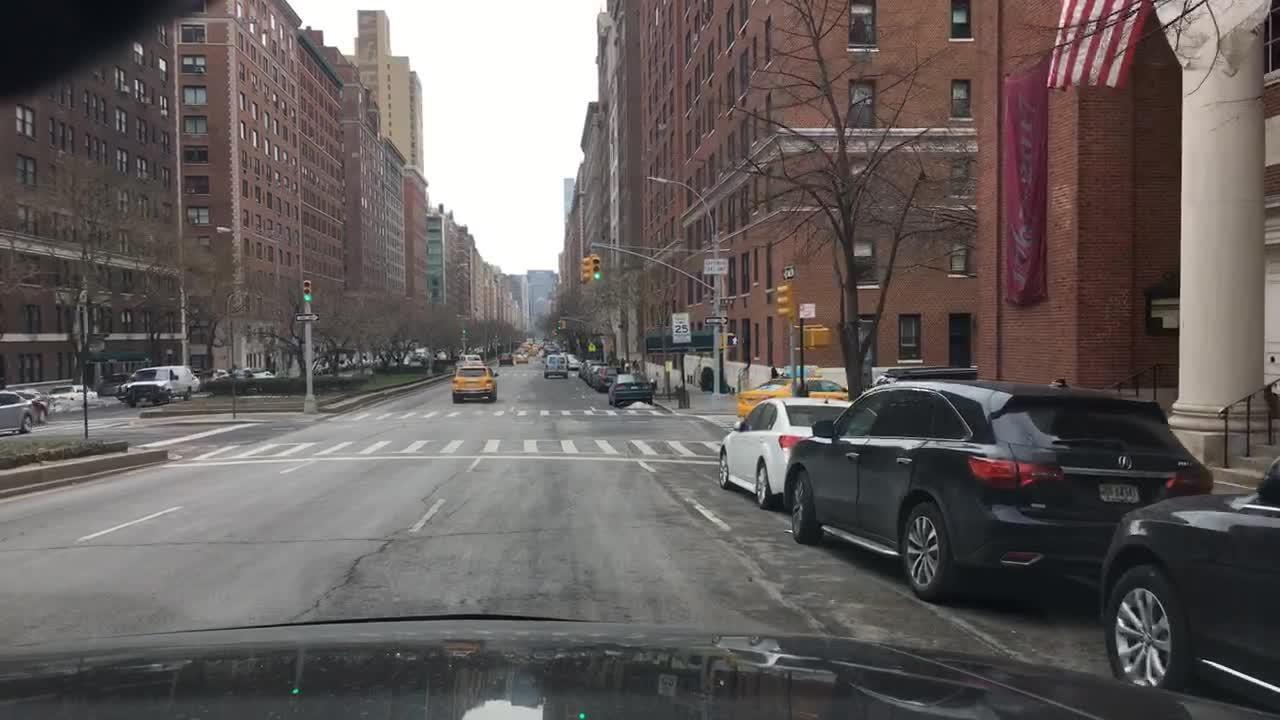acura: (1112, 447, 1137, 474)
